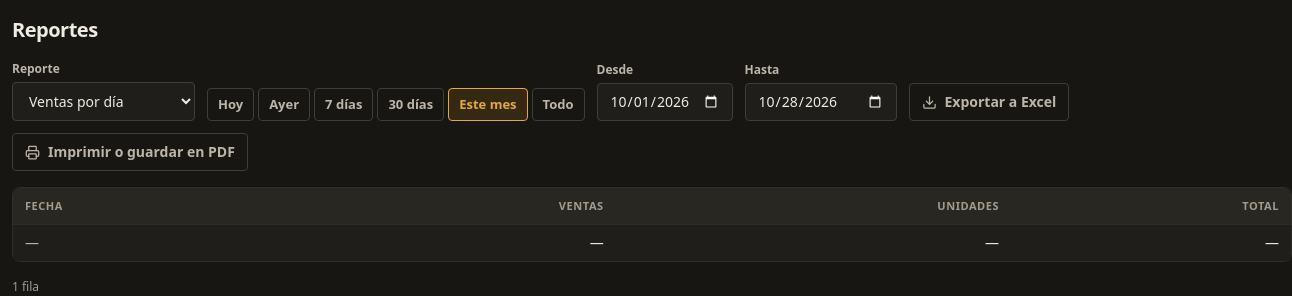
Test case: cómo se muestran los números › marca con una raya lo que no tiene valor, para no dejar el hueco
(page scrolled)
Expected: the heading "Reportes" is shown, 12,16 -> 98,43
Select "Cierres de caja" in the dropdown labelled "Reporte" at (104, 102), box 12,82 -> 195,121
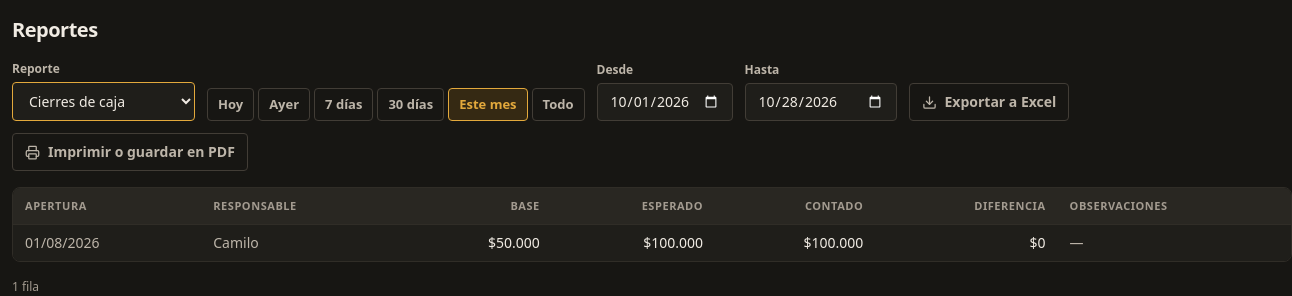
Expected: the text "—" is shown, 1058,224 -> 1291,261
Expected: the column heading "Observaciones" is shown, 1058,188 -> 1291,224
